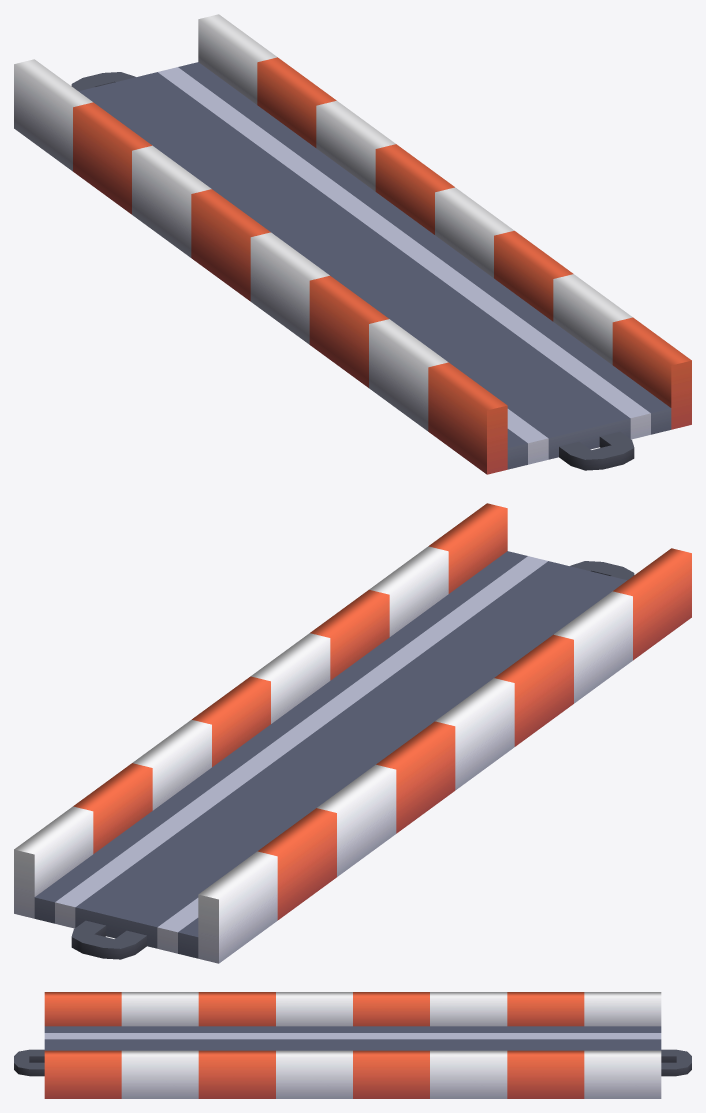
The model's file is kenney-toy-car-track-road-narrow-straight.glb.
3 views of the same model, one above another, from view 1: azimuth 30°, elevation 25°; view 2: azimuth 150°, elevation 25°; view 3: azimuth 270°, elevation 25° (orthographic). The views are drawn at different scales.
Parts seen in each view (by area): view 1: track-road-narrow-straight; view 2: track-road-narrow-straight; view 3: track-road-narrow-straight.
Boxes of the visible parts, x1=… form: track-road-narrow-straight: x1=14, y1=14, x2=691, y2=474; track-road-narrow-straight: x1=14, y1=503, x2=691, y2=963; track-road-narrow-straight: x1=14, y1=992, x2=691, y2=1098.
Bounding box in the file's own units: 1 × 0.2997 × 4.4.
1 material, 1 textured.
